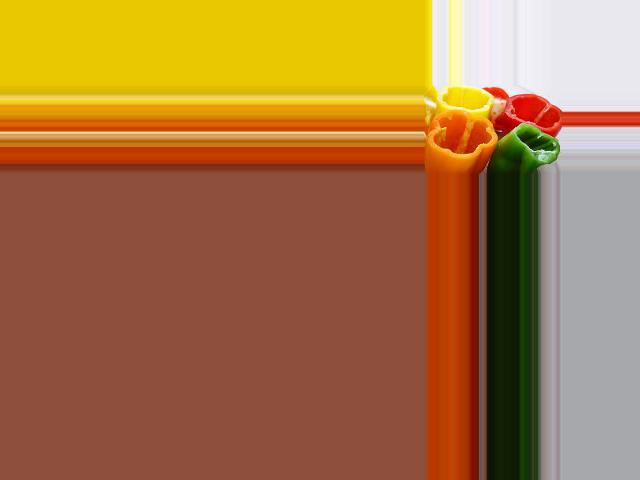bell_pepper: (503, 92, 559, 129)
